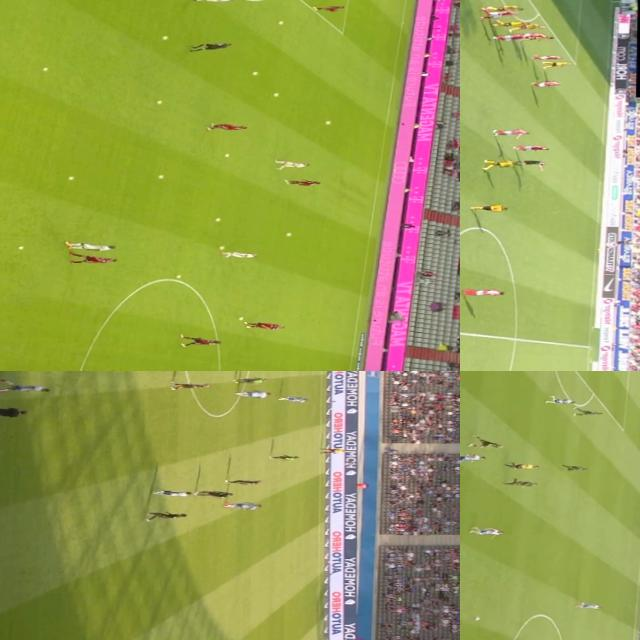ball: (221, 152, 231, 158), (160, 34, 170, 40), (234, 316, 246, 321), (470, 615, 482, 620), (322, 120, 332, 125), (270, 92, 280, 96), (250, 70, 258, 75), (174, 272, 180, 278), (16, 244, 24, 248), (156, 174, 164, 178), (284, 232, 292, 236), (214, 218, 222, 222), (274, 20, 282, 24), (66, 177, 76, 180), (156, 100, 162, 104), (42, 67, 48, 71), (220, 247, 224, 250)
player: (61, 238, 118, 252), (0, 380, 51, 393), (68, 252, 116, 265), (178, 334, 220, 347), (466, 436, 504, 450), (462, 288, 506, 300), (477, 7, 519, 18), (144, 511, 186, 522), (469, 202, 507, 214), (481, 158, 518, 170), (493, 126, 528, 138), (513, 142, 551, 153), (493, 32, 527, 44), (482, 3, 526, 12), (168, 381, 212, 390), (240, 321, 282, 330), (195, 488, 232, 498), (492, 18, 528, 28), (535, 59, 575, 68), (148, 488, 192, 496), (469, 525, 501, 536), (505, 478, 540, 488), (280, 178, 322, 186), (208, 121, 245, 130), (226, 478, 262, 487), (218, 250, 258, 258), (268, 452, 300, 462), (544, 396, 576, 406), (574, 408, 606, 418), (271, 160, 308, 168), (220, 502, 262, 509), (232, 391, 272, 398), (528, 53, 566, 60), (460, 453, 486, 463), (276, 394, 308, 402), (511, 21, 546, 28), (230, 378, 270, 384), (572, 602, 602, 610), (313, 5, 347, 12), (529, 80, 563, 87), (512, 32, 550, 38), (562, 464, 590, 472), (192, 0, 232, 2)
